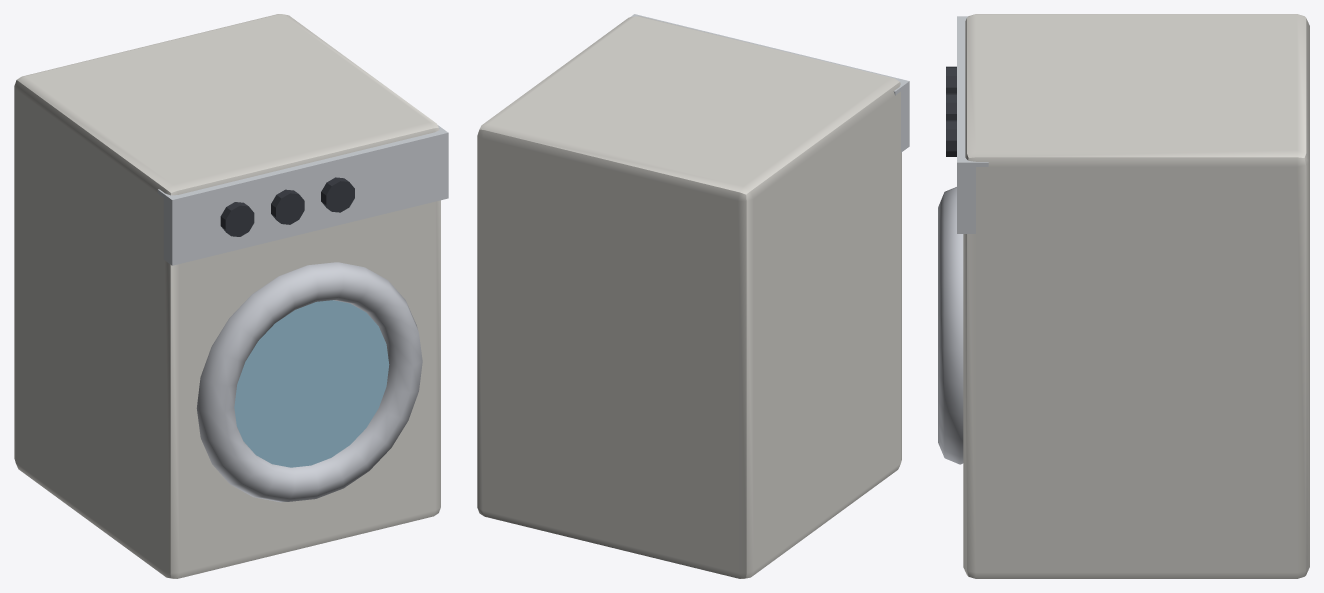
The model's file is washer.glb.
3 views of the same model, side by side, from view 1: azimuth 30°, elevation 25°; view 2: azimuth 150°, elevation 25°; view 3: azimuth 270°, elevation 25° (orthographic). The views are drawn at different scales.
Parts seen in each view (by area): view 1: part-appliance, part-chrome, part-clear-door, part-panel, part-knob; view 2: part-appliance, part-panel; view 3: part-appliance, part-chrome, part-panel, part-knob.
Part boxes in pixels (x1,y1,x2,y2): part-appliance: (14, 14, 440, 578); part-chrome: (196, 262, 422, 502); part-clear-door: (234, 300, 389, 467); part-panel: (157, 125, 448, 265); part-knob: (220, 177, 354, 236); part-appliance: (477, 16, 901, 578); part-panel: (630, 14, 909, 152); part-appliance: (963, 14, 1309, 578); part-chrome: (938, 187, 963, 464); part-panel: (957, 16, 988, 233); part-knob: (946, 66, 956, 156).
Size of the model in its own units: 22 by 30 by 23.6.
